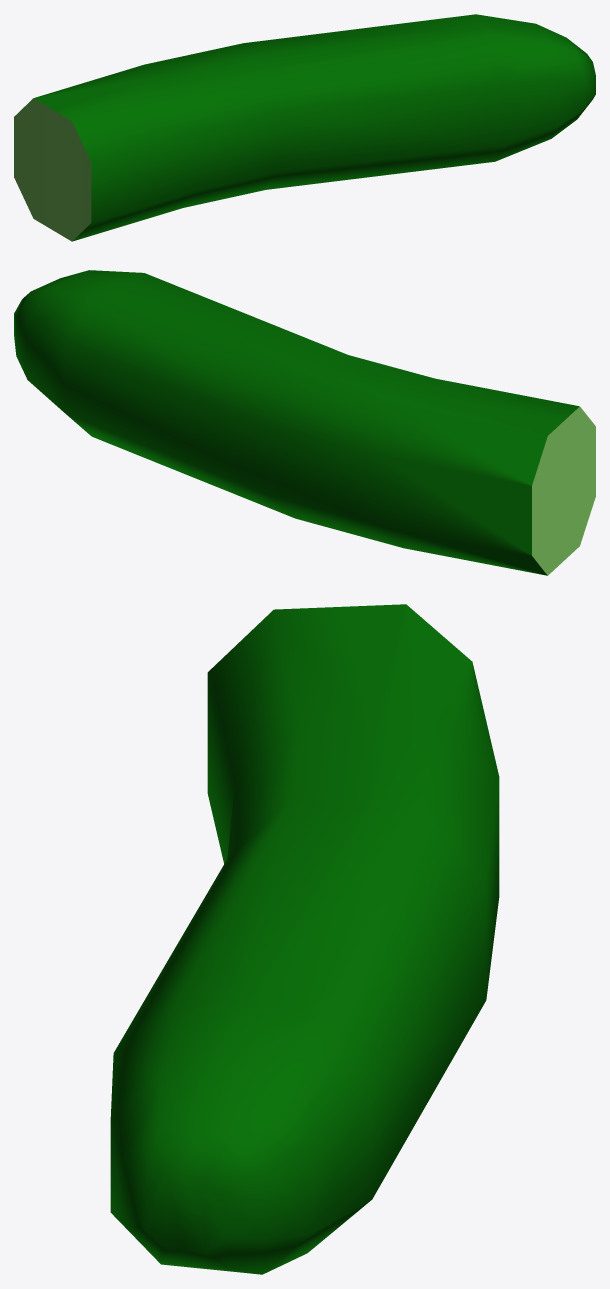
Rendered from mesh_Cucumber_Stage05.fbx.
3 views of the same model, one above another, from view 1: azimuth 30°, elevation 25°; view 2: azimuth 150°, elevation 25°; view 3: azimuth 270°, elevation 25° (orthographic). The views are drawn at different scales.
Visible parts, largest first — view 1: mesh_Cucumber_Stage05; view 2: mesh_Cucumber_Stage05; view 3: mesh_Cucumber_Stage05.
Boxes of the visible parts, x1,y1,x2,y2 form: mesh_Cucumber_Stage05: [14, 14, 595, 241]; mesh_Cucumber_Stage05: [14, 270, 595, 575]; mesh_Cucumber_Stage05: [110, 604, 499, 1274].
Bounding box in the file's own units: 0.1617 × 0.0367 × 0.0535.
